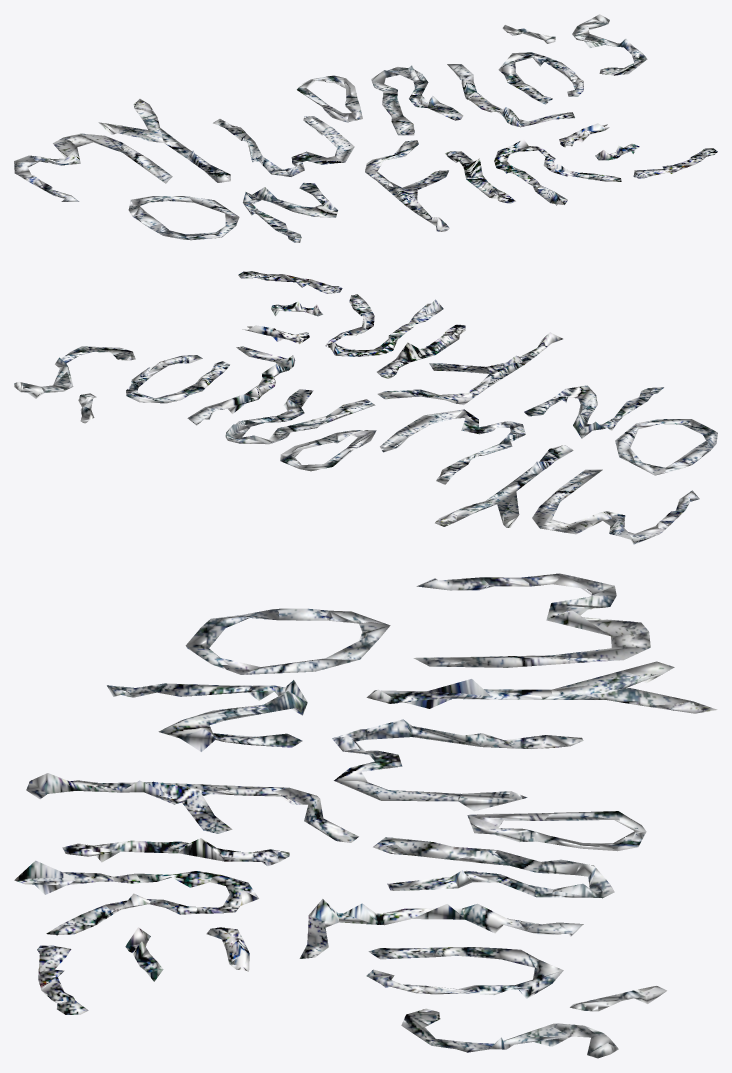
File: 11_MY_WORLDS_ON_FIRE.glb
The picture shows the model from 3 angles, top to bottom: view 1: azimuth 30°, elevation 25°; view 2: azimuth 150°, elevation 25°; view 3: azimuth 270°, elevation 25°; orthographic projection. The views are drawn at different scales.
Parts seen in each view (by area): view 1: 11_MY_WORLDS_ON_FIRE; view 2: 11_MY_WORLDS_ON_FIRE; view 3: 11_MY_WORLDS_ON_FIRE.
Part boxes in pixels (left/top/right/bottom): 11_MY_WORLDS_ON_FIRE: left=14, top=14, right=717, bottom=242; 11_MY_WORLDS_ON_FIRE: left=14, top=271, right=717, bottom=544; 11_MY_WORLDS_ON_FIRE: left=14, top=573, right=717, bottom=1058.
Size of the model in its own units: 4.52 by 0.1525 by 2.78.
1 material, 1 textured.
